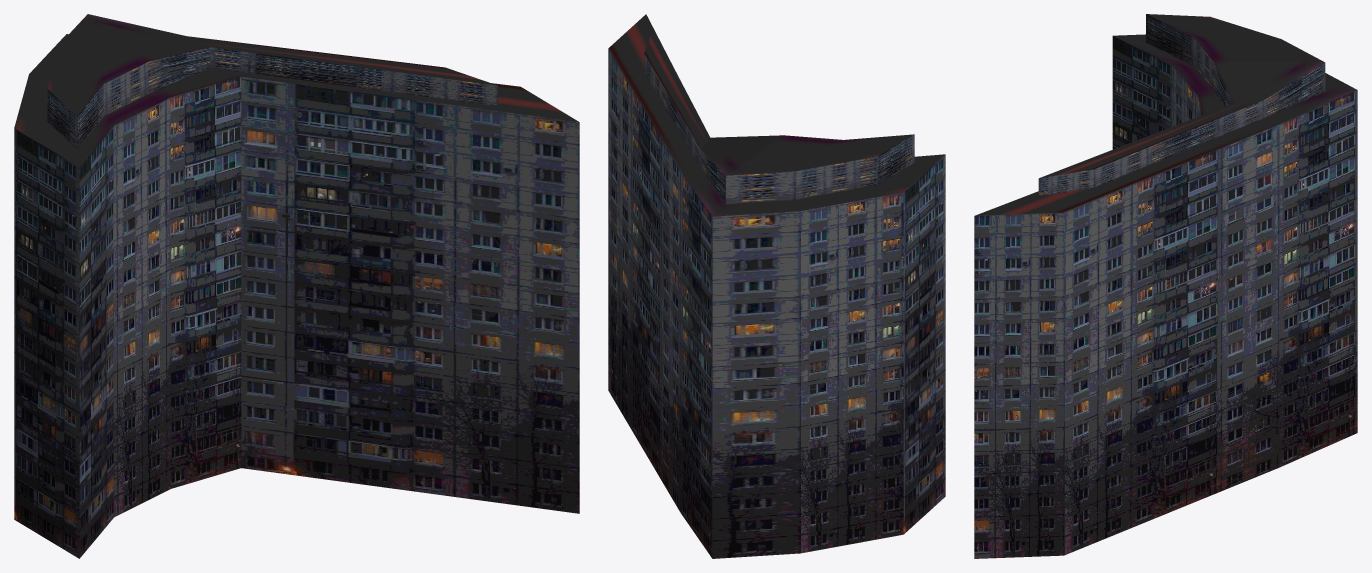
The model's file is house05.fbx.
3 renders of one model, left to right at view 1: azimuth 30°, elevation 25°; view 2: azimuth 150°, elevation 25°; view 3: azimuth 270°, elevation 25°, orthographic. The views are drawn at different scales.
Visible parts, largest first — view 1: Cube.002; view 2: Cube.002; view 3: Cube.002.
Boxes of the visible parts, x1=… form: Cube.002: x1=14, y1=14, x2=579, y2=558; Cube.002: x1=608, y1=14, x2=945, y2=558; Cube.002: x1=974, y1=14, x2=1357, y2=558.
Bounding box in the file's own units: 873 × 824 × 769.
2 materials, 2 textured.
